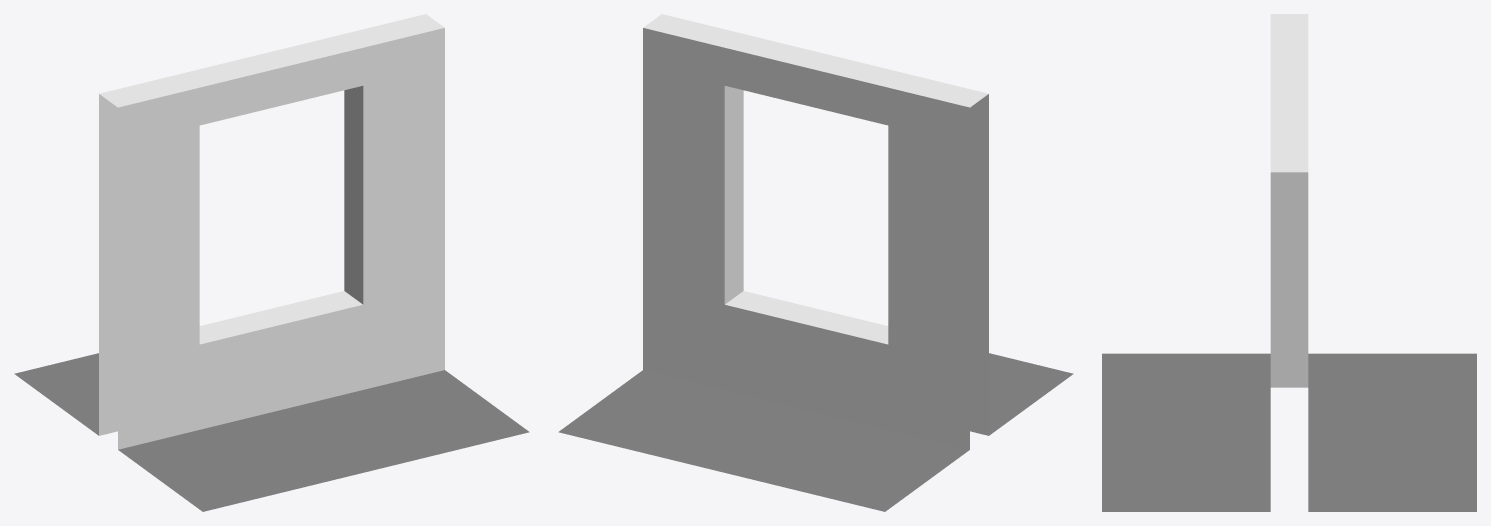
Rendered from I_Wall_Straight_Window.fbx.
The picture shows the model from 3 angles, left to right: view 1: azimuth 30°, elevation 25°; view 2: azimuth 150°, elevation 25°; view 3: azimuth 270°, elevation 25°; orthographic projection.
Visible parts, largest first — view 1: I_Wall_Straight_Window; view 2: I_Wall_Straight_Window; view 3: I_Wall_Straight_Window.
Boxes of the visible parts, <box> form: I_Wall_Straight_Window: <box>14,14,529,511</box>; I_Wall_Straight_Window: <box>558,14,1073,511</box>; I_Wall_Straight_Window: <box>1102,14,1476,511</box>.
Size of the model in its own units: 200 by 200 by 200.
